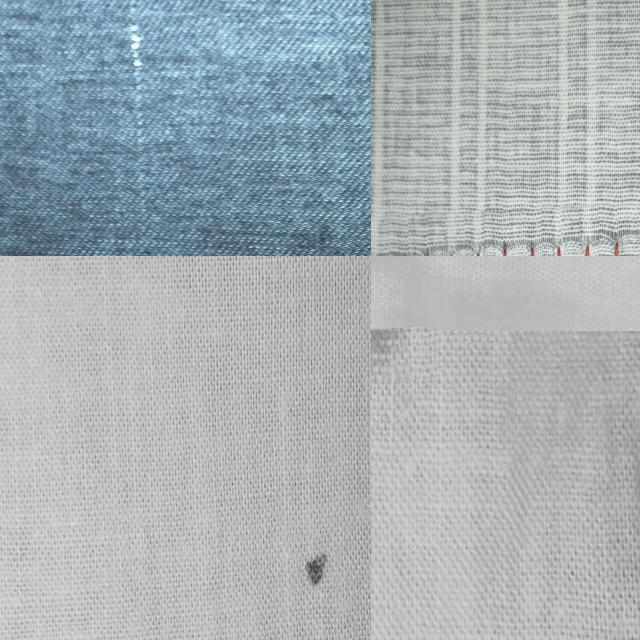Hole: (371, 327, 436, 385), (286, 533, 337, 590)
Stitch: (371, 199, 640, 256)
Thread_other: (34, 0, 224, 232)
